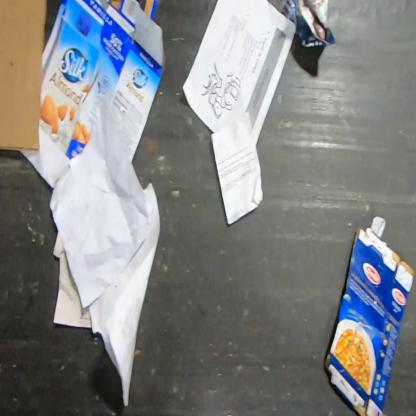cardboard: (18, 0, 168, 189), (323, 215, 415, 415), (0, 0, 49, 151)
